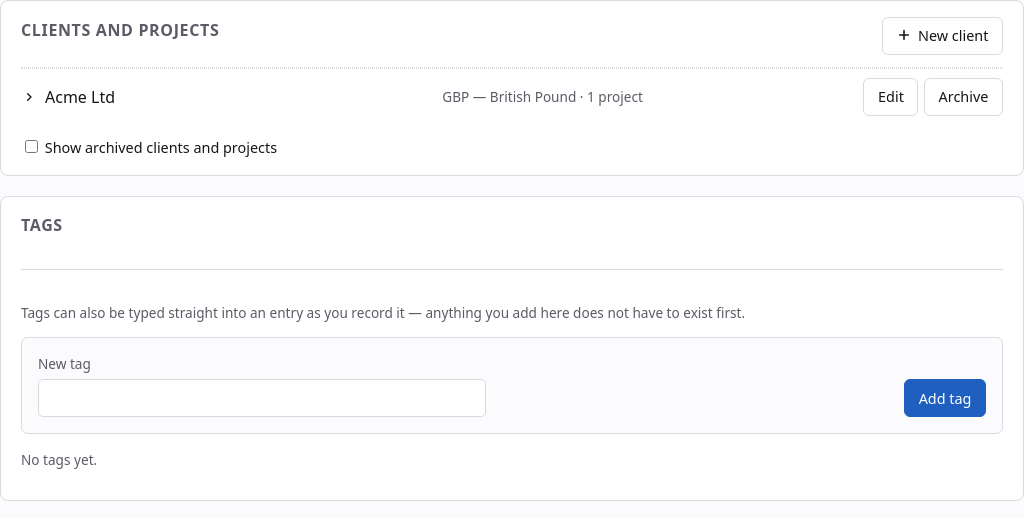
Test: no delete, only archive (0005 X1–X3) › archives a client without any confirmation, because nothing is at stake (X3)
Click the button "Archive" at x=964, y=97, box [924,78,1003,116]
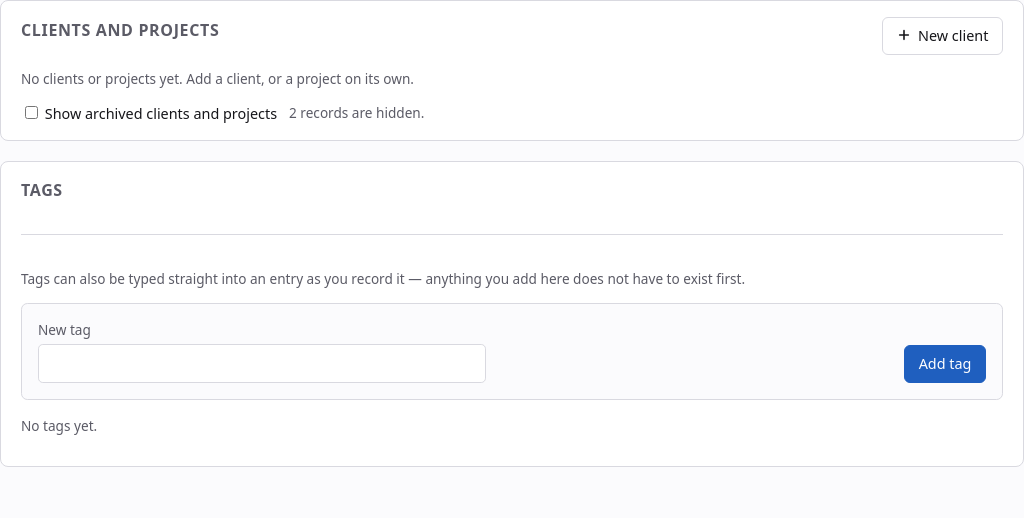
Expected: the button "Acme Ltd" is gone
